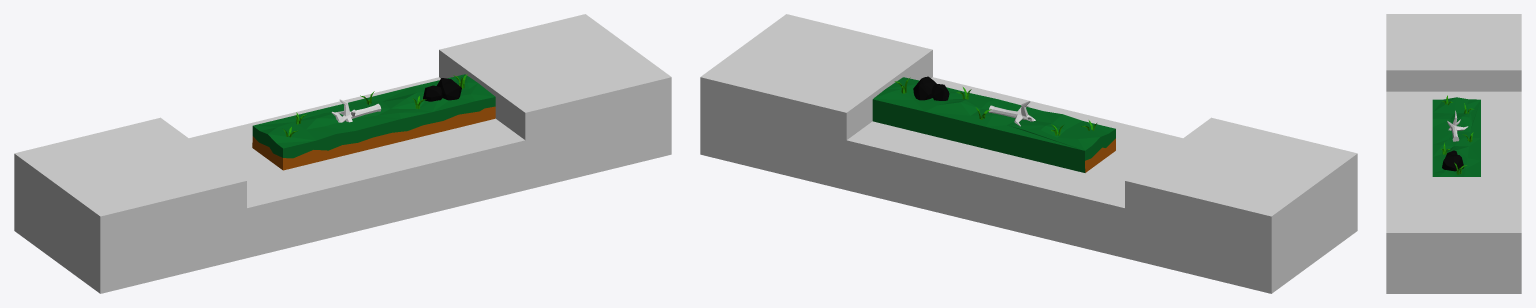
The model's file is Easy_Obstacle_Forest_3.fbx.
3 renders of one model, left to right at view 1: azimuth 30°, elevation 25°; view 2: azimuth 150°, elevation 25°; view 3: azimuth 270°, elevation 25°, orthographic. The views are drawn at different scales.
Parts seen in each view (by area): view 1: Cube, Icosphere.002, Snow Long Snow Tree.002; view 2: Cube, Icosphere.002, Snow Long Snow Tree.002; view 3: Cube, Icosphere.002, Snow Long Snow Tree.002.
Part boxes in pixels (<box>): Cube: <box>14,14,671,293</box>; Icosphere.002: <box>252,74,495,170</box>; Snow Long Snow Tree.002: <box>331,99,381,122</box>; Cube: <box>700,14,1357,293</box>; Icosphere.002: <box>872,76,1115,172</box>; Snow Long Snow Tree.002: <box>988,101,1035,126</box>; Cube: <box>1386,14,1521,293</box>; Icosphere.002: <box>1432,95,1480,176</box>; Snow Long Snow Tree.002: <box>1447,110,1468,141</box>.
Size of the model in its own units: 10231 by 1592 by 2676.
